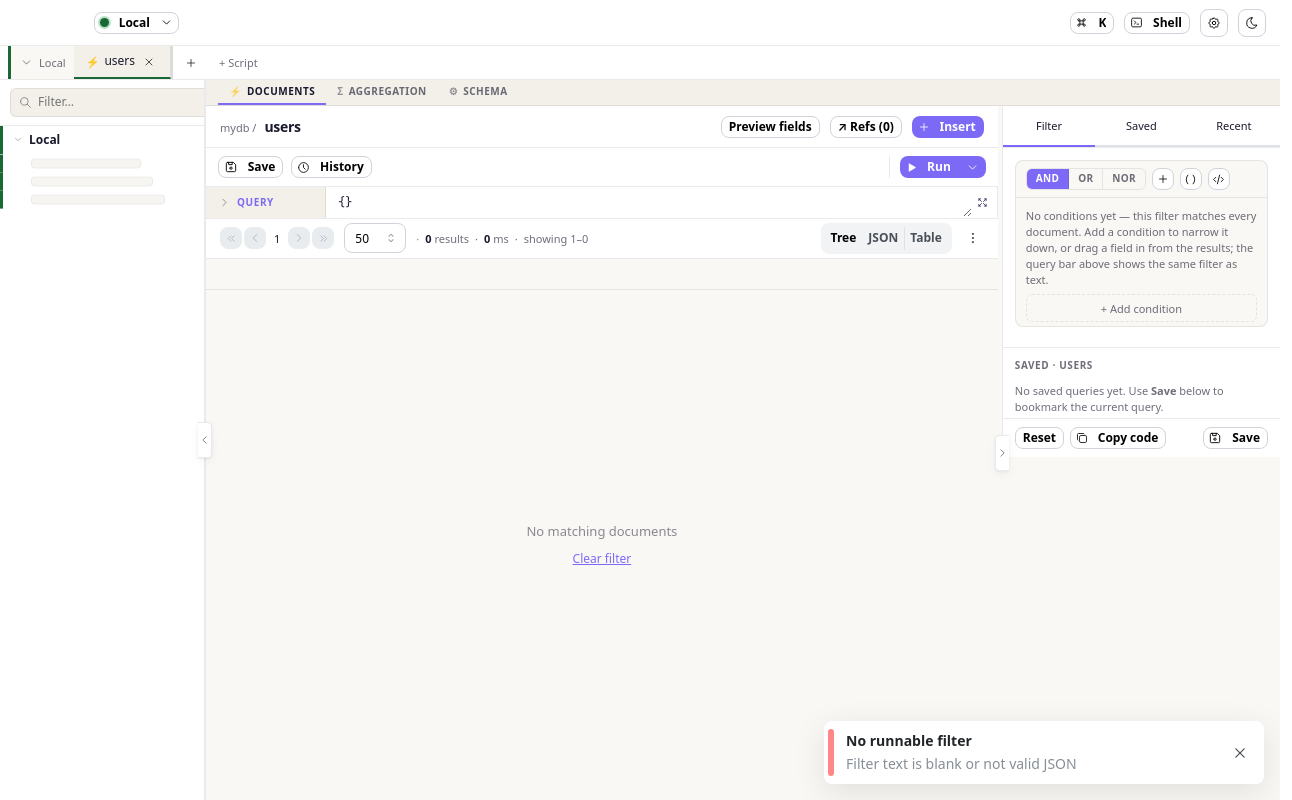
History works with the builder drawer collapsed › switches an already-expanded drawer to the Recent tab
Expected: the button "Reset" is shown, x1=1015 y1=427 x2=1064 y2=449
Click the button "History".
click(332, 167)  # box x1=291 y1=156 x2=372 y2=178
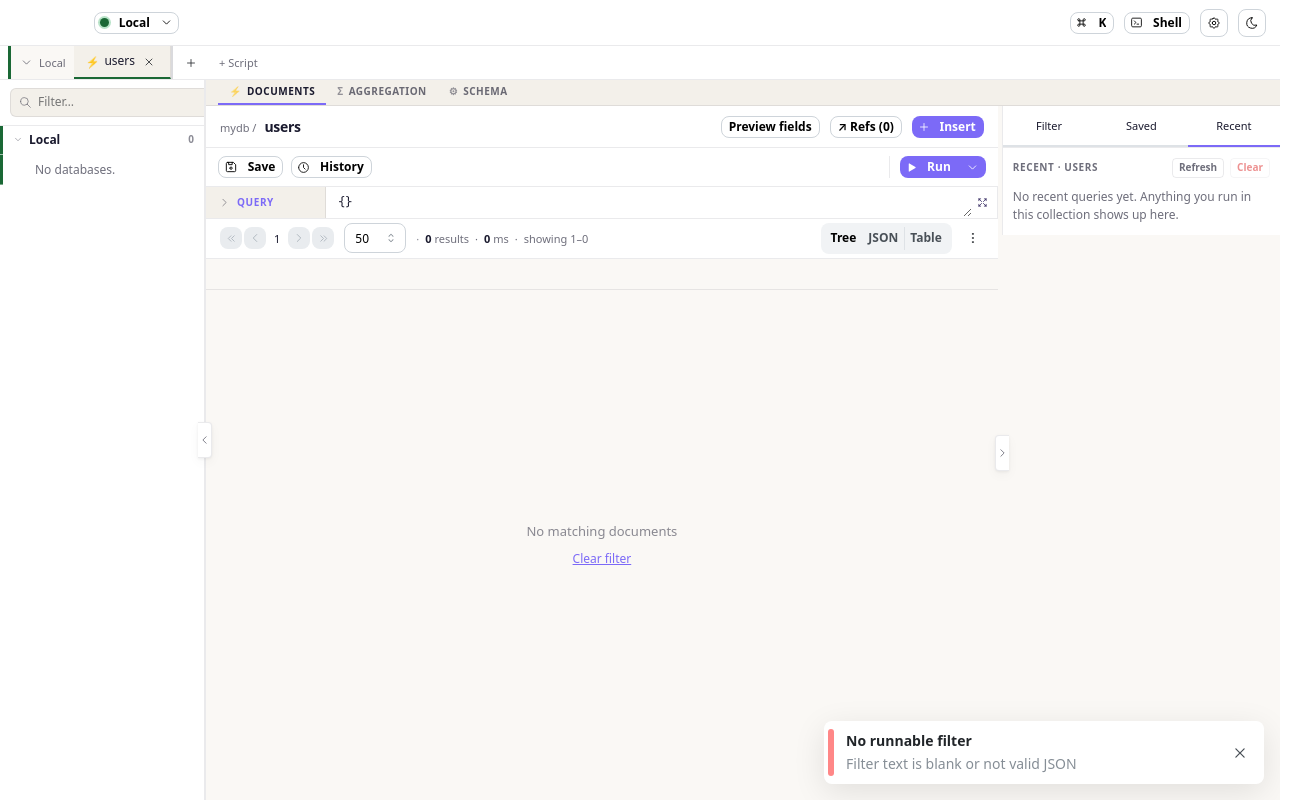
Result: the button "Reset" is gone
